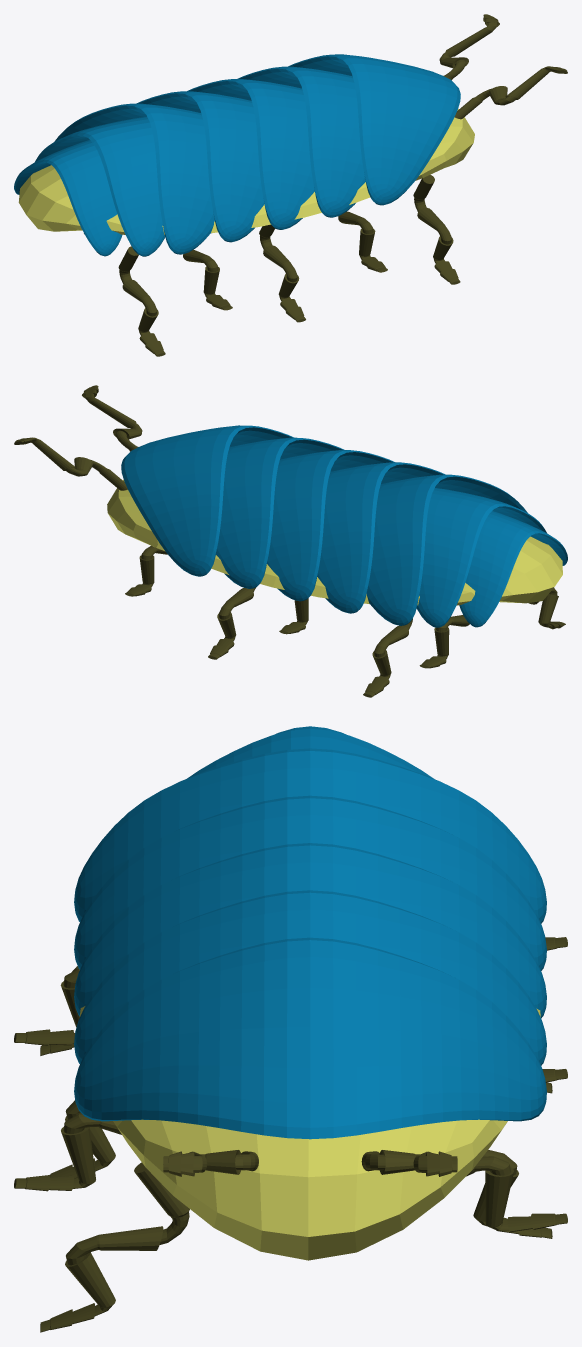
Rendered from pillbug rendered.fbx.
3 renders of one model, top to bottom at view 1: azimuth 30°, elevation 25°; view 2: azimuth 150°, elevation 25°; view 3: azimuth 270°, elevation 25°, orthographic. The views are drawn at different scales.
Parts seen in each view (by area): view 1: Back, Body, Antenna, FLegs, BLegs, MLegs, FLegs2, BLegs2; view 2: Back, Body, Antenna, BLegs, BLegs2, FLegs2, FLegs, MLegs; view 3: Back, Body, FLegs, Antenna, FLegs2, MLegs, BLegs2.
Part boxes in pixels (x1=…): Back: x1=14, y1=54, x2=460, y2=256; Body: x1=18, y1=108, x2=474, y2=234; Antenna: x1=439, y1=14, x2=567, y2=119; FLegs: x1=413, y1=174, x2=460, y2=284; BLegs: x1=118, y1=246, x2=165, y2=356; MLegs: x1=259, y1=224, x2=305, y2=322; FLegs2: x1=338, y1=211, x2=387, y2=272; BLegs2: x1=84, y1=233, x2=232, y2=310; Back: x1=121, y1=425, x2=567, y2=627; Body: x1=107, y1=479, x2=562, y2=605; Antenna: x1=14, y1=385, x2=142, y2=490; BLegs: x1=419, y1=588, x2=565, y2=668; BLegs2: x1=363, y1=618, x2=412, y2=697; FLegs2: x1=208, y1=587, x2=255, y2=659; FLegs: x1=125, y1=546, x2=167, y2=596; MLegs: x1=279, y1=598, x2=308, y2=634; Back: x1=74, y1=726, x2=546, y2=1139; Body: x1=79, y1=1006, x2=540, y2=1260; FLegs: x1=40, y1=1156, x2=567, y2=1332; Antenna: x1=163, y1=1150, x2=457, y2=1176; FLegs2: x1=14, y1=1113, x2=552, y2=1238; MLegs: x1=50, y1=1069, x2=567, y2=1178; BLegs2: x1=14, y1=968, x2=552, y2=1093.
Size of the model in its own units: 390 by 136 by 193.
